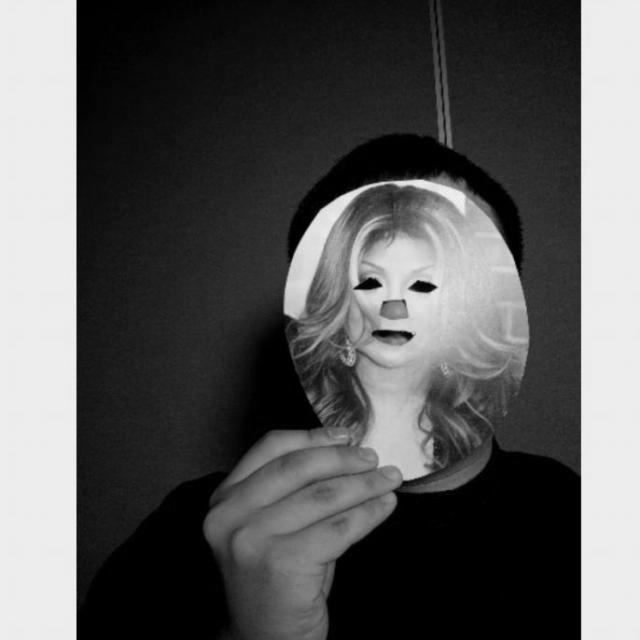fake: (278, 174, 532, 484)
